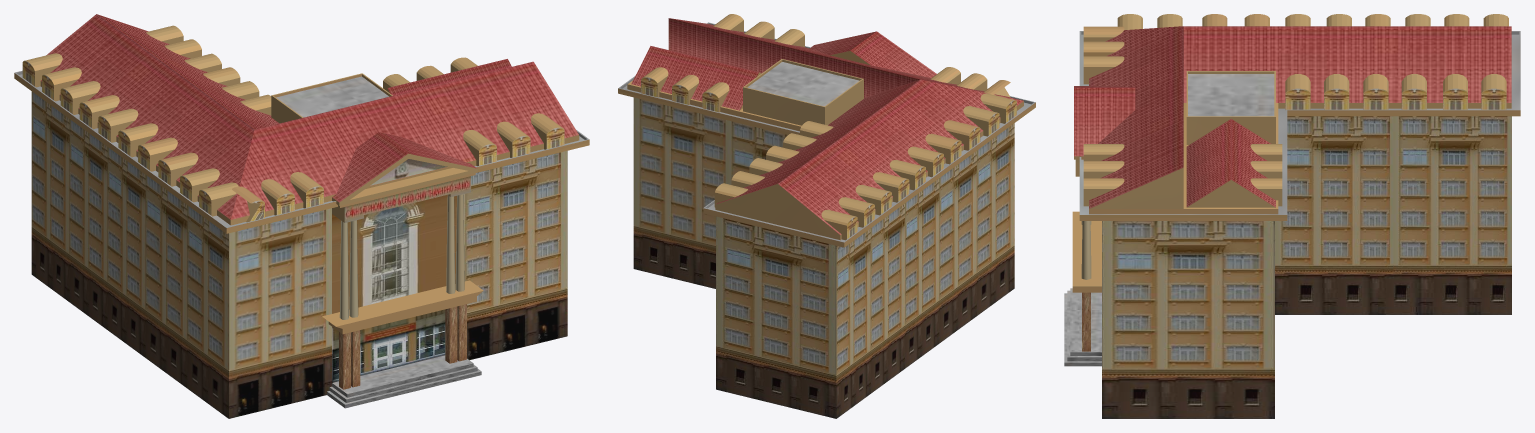
3 renders of one model, left to right at view 1: azimuth 30°, elevation 25°; view 2: azimuth 150°, elevation 25°; view 3: azimuth 270°, elevation 25°, orthographic. The views are drawn at different scales.
Visible parts, largest first — view 1: HN769_SoCanhSatPCCCHN; view 2: HN769_SoCanhSatPCCCHN; view 3: HN769_SoCanhSatPCCCHN.
Part boxes in pixels (<box>): HN769_SoCanhSatPCCCHN: <box>14,14,589,418</box>; HN769_SoCanhSatPCCCHN: <box>618,14,1035,418</box>; HN769_SoCanhSatPCCCHN: <box>1064,14,1520,418</box>.
Bounding box in the file's own units: 42.4 × 27.3 × 44.46.
Materials: 1 (1 with a texture image).
